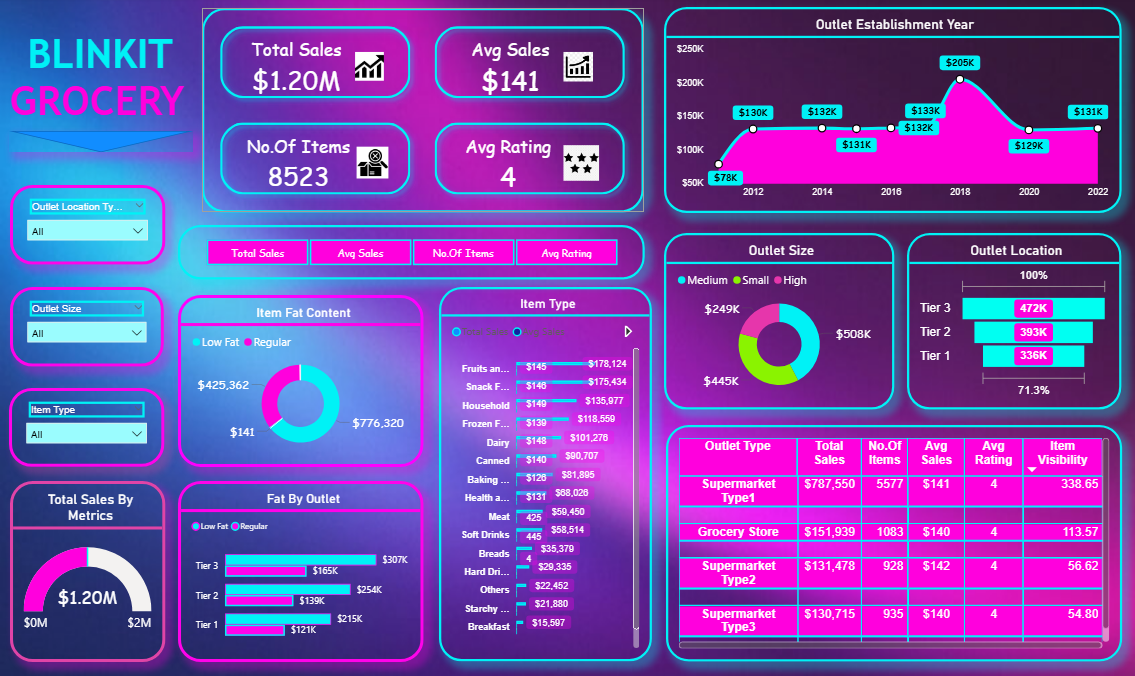

What the dashboard file says about the page in this screenshot:
{"tool":"powerbi","page":{"name":"Page 1","canvas":[1500,900],"ordinal":0},"visuals":[{"type":"textbox","box":[8.2,24.6,248,167.5],"z":0},{"type":"cardVisual","fields":{"Data":["BlinkIT Grocery Data.Total Sales","BlinkIT Grocery Data.Avg Sales","BlinkIT Grocery Data.No.Of Items","BlinkIT Grocery Data.Avg Rating"]},"box":[267.1,14.3,582.9,270],"z":1000},{"type":"donutChart","title":" Item Fat Content","fields":{"Y":["BlinkIT Grocery Data.Total Sales","BlinkIT Grocery Data.Avg Sales","BlinkIT Grocery Data.No.Of Items","BlinkIT Grocery Data.Avg Rating"],"Category":["BlinkIT Grocery Data.Item Fat Content"]},"box":[234.8,392.8,323.6,227.3],"z":2000},{"type":"slicer","fields":{"Values":["Metrics.Metrics"]},"box":[234.8,301,615.6,72.2],"z":3000},{"type":"clusteredBarChart","title":"Fat By Outlet","fields":{"Y":["BlinkIT Grocery Data.Total Sales"],"Series":["BlinkIT Grocery Data.Item Fat Content"],"Category":["BlinkIT Grocery Data.Outlet Location Type"]},"box":[234.8,638.1,323.6,239.3],"z":4000},{"type":"clusteredBarChart","title":"Item Type","fields":{"Y":["BlinkIT Grocery Data.Total Sales","BlinkIT Grocery Data.Avg Sales","BlinkIT Grocery Data.No.Of Items","BlinkIT Grocery Data.Avg Rating"],"Category":["BlinkIT Grocery Data.Item Type"]},"box":[579.4,382.3,281.4,493.6],"z":5000},{"type":"lineChart","title":"Outlet Establishment Year","fields":{"Y":["BlinkIT Grocery Data.Total Sales"],"Category":["BlinkIT Grocery Data.Outlet Establishment Year"]},"box":[875.9,13.5,603.5,272.4],"z":6000},{"type":"donutChart","title":"Outlet Size","fields":{"Y":["BlinkIT Grocery Data.Total Sales"],"Category":["BlinkIT Grocery Data.Outlet Size"]},"box":[875.9,311.5,304,233.3],"z":7000},{"type":"funnel","title":"Outlet Location","fields":{"Y":["Sum(BlinkIT Grocery Data.Sales)"],"Category":["BlinkIT Grocery Data.Outlet Location Type"]},"box":[1196.5,311.5,282.9,233.3],"z":8000},{"type":"pivotTable","fields":{"Rows":["BlinkIT Grocery Data.Outlet Type"],"Values":["BlinkIT Grocery Data.Total Sales","BlinkIT Grocery Data.No.Of Items","BlinkIT Grocery Data.Avg Sales","BlinkIT Grocery Data.Avg Rating","Sum(BlinkIT Grocery Data.Item Visibility)"]},"box":[878.9,564.4,602,311.5],"z":9000},{"type":"slicer","fields":{"Values":["BlinkIT Grocery Data.Outlet Size"]},"box":[13.5,382.3,203.2,105.4],"z":10000},{"type":"slicer","fields":{"Values":["BlinkIT Grocery Data.Outlet Location Type"]},"box":[13.5,248.3,204.7,105.4],"z":11000},{"type":"slicer","fields":{"Values":["BlinkIT Grocery Data.Item Type"]},"box":[12,516.2,204.7,103.8],"z":12000},{"type":"gauge","title":"Total Sales By Metrics","fields":{"Y":["BlinkIT Grocery Data.Total Sales"],"TargetValue":["BlinkIT Grocery Data.Total Sales"]},"box":[13.5,638.1,204.7,239.3],"z":13000},{"type":"shape","box":[11.5,177.4,243.1,27.9],"z":14000}]}

Visuals, with their boxes in screenshot pixels (x1, y1, x2, y2), scaled from the page's 1500x900 canvas onto the 1135x676 screenshot:
textbox: box(6, 18, 194, 144)
cardVisual - BlinkIT Grocery Data.Total Sales x BlinkIT Grocery Data.Avg Sales: box(202, 11, 643, 214)
" Item Fat Content" donutChart: box(178, 295, 423, 466)
slicer - Metrics.Metrics: box(178, 226, 643, 280)
"Fat By Outlet" clusteredBarChart: box(178, 479, 423, 659)
"Item Type" clusteredBarChart: box(438, 287, 651, 658)
"Outlet Establishment Year" lineChart: box(663, 10, 1119, 215)
"Outlet Size" donutChart: box(663, 234, 893, 409)
"Outlet Location" funnel: box(905, 234, 1119, 409)
pivotTable - BlinkIT Grocery Data.Outlet Type x BlinkIT Grocery Data.Total Sales: box(665, 424, 1121, 658)
slicer - BlinkIT Grocery Data.Outlet Size: box(10, 287, 164, 366)
slicer - BlinkIT Grocery Data.Outlet Location Type: box(10, 187, 165, 266)
slicer - BlinkIT Grocery Data.Item Type: box(9, 388, 164, 466)
"Total Sales By Metrics" gauge: box(10, 479, 165, 659)
shape: box(9, 133, 193, 154)
